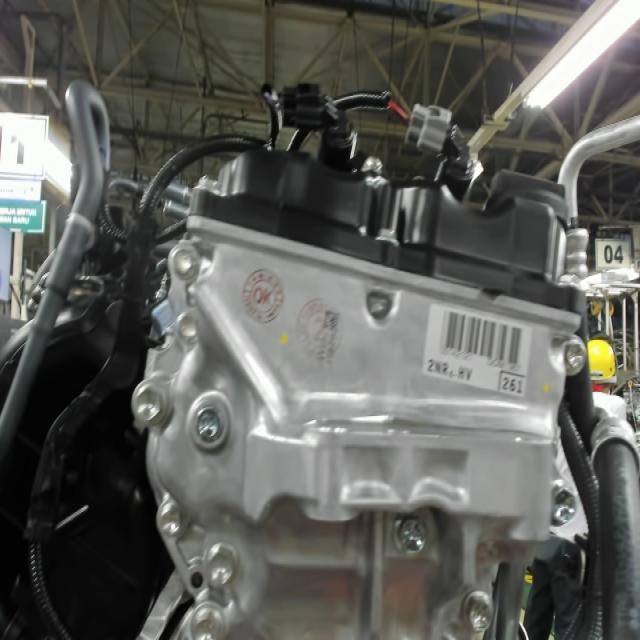Engine Assy-261: (495, 366, 528, 400)
Hose Canister-MR: (64, 206, 98, 245)
